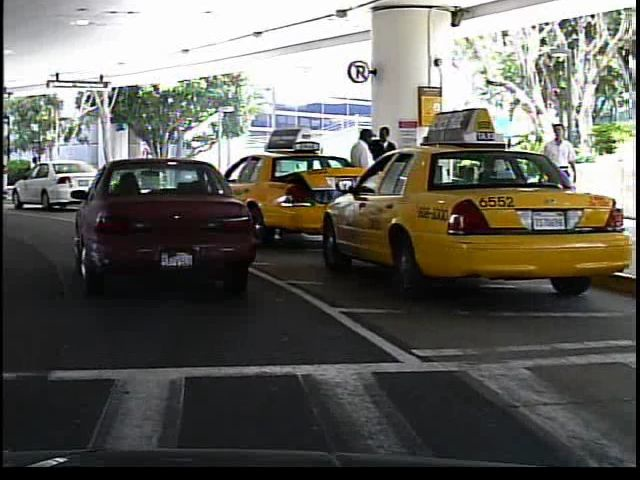person: (539, 117, 580, 231), (345, 126, 378, 228), (370, 125, 400, 223), (22, 151, 46, 194)
